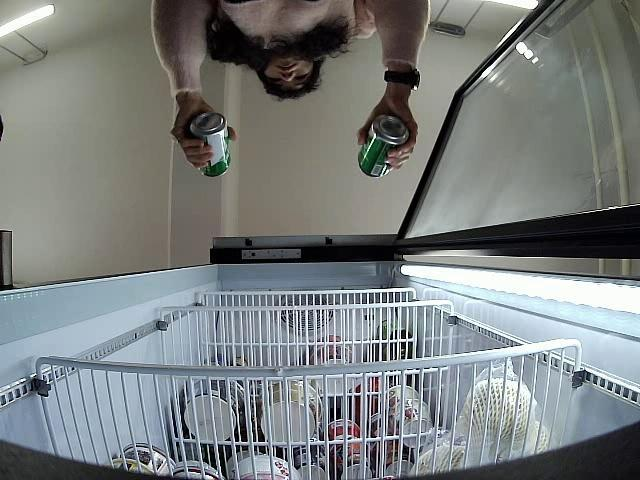12_chilsungCider: (358, 114, 409, 176), (188, 108, 230, 180)
